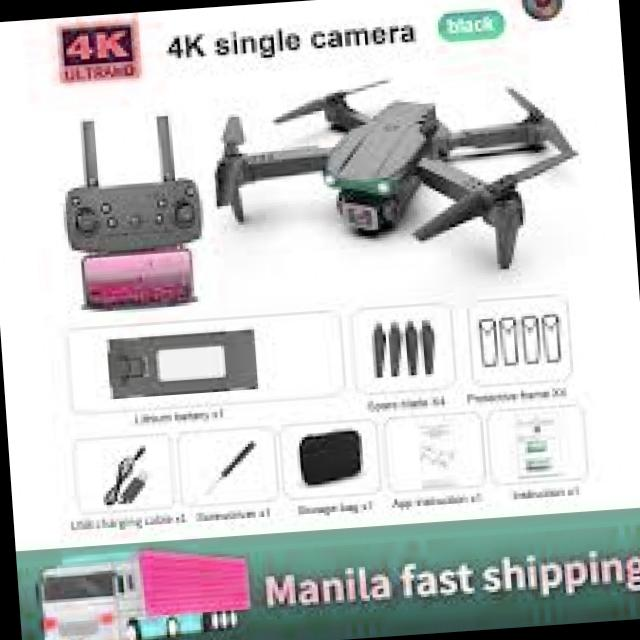drone: (196, 51, 598, 292)
